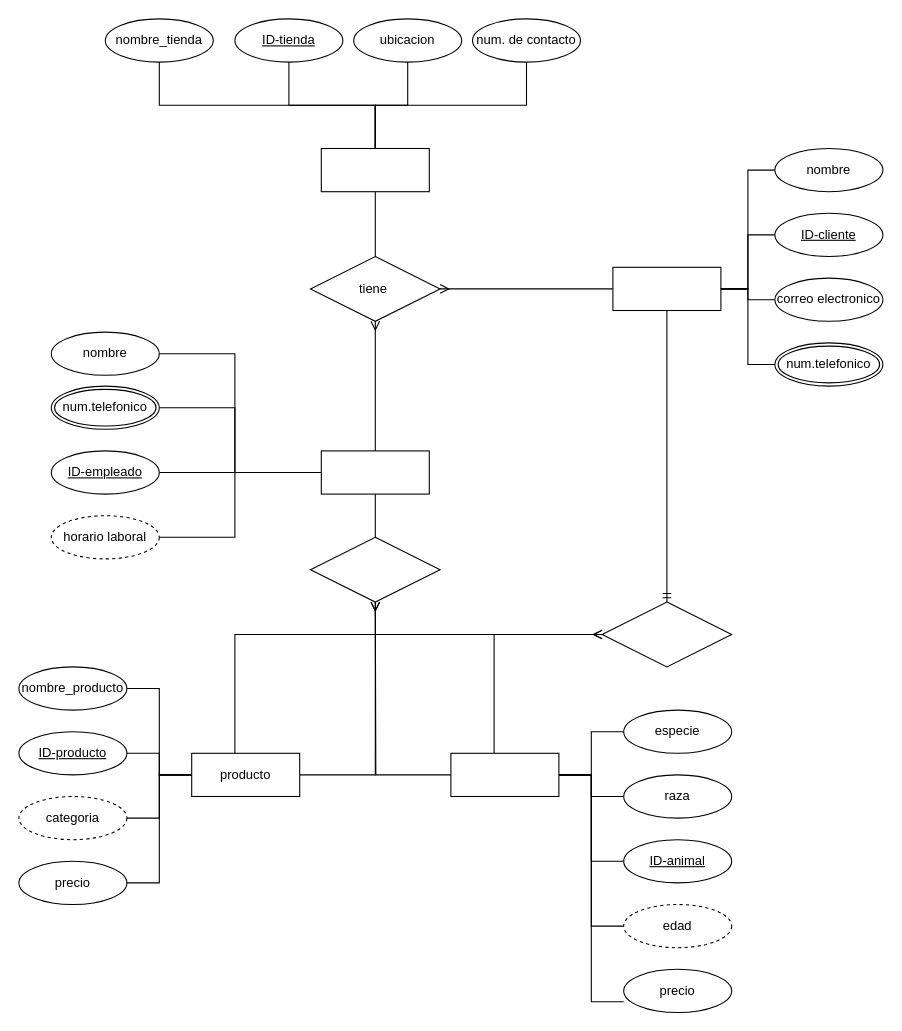
The diagram is 902 pixels wide and 1031 high, and some of its shapes have lost their labels. Each missing label, with the box of its shape:
cliente: (612, 266, 721, 310)
compra: (601, 601, 732, 667)
empleado: (320, 450, 429, 494)
mascota: (450, 752, 559, 796)
tienda_mascotas: (320, 147, 429, 192)
vende: (309, 536, 440, 602)
